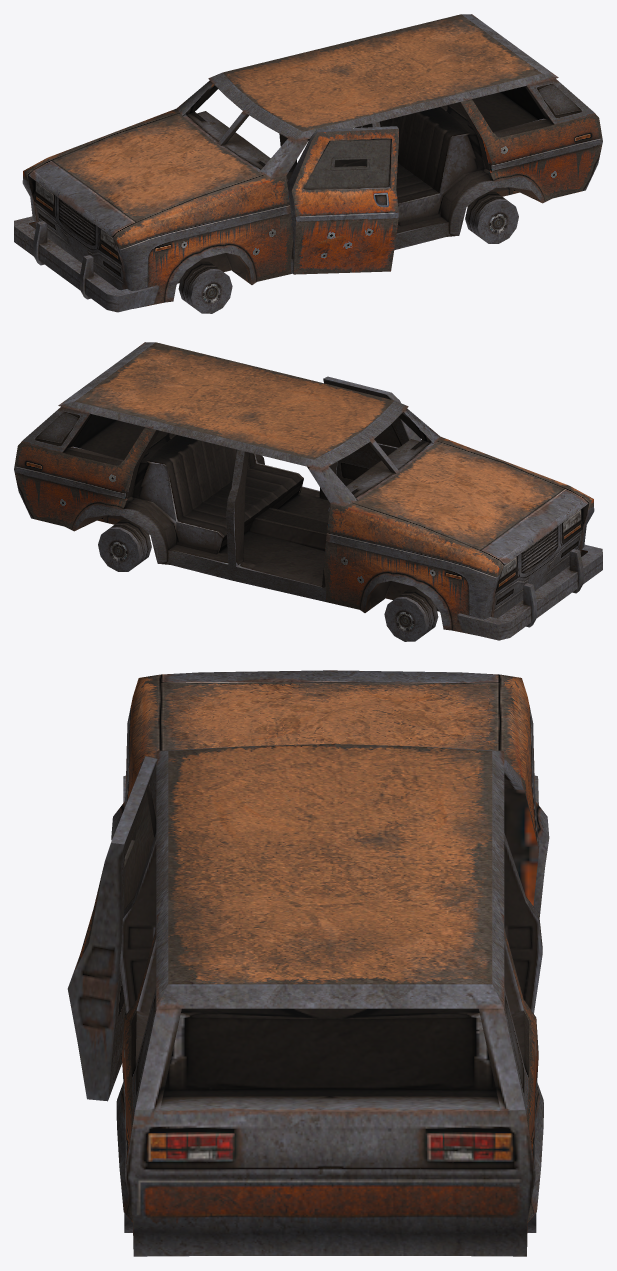
The picture shows the model from 3 angles, top to bottom: view 1: azimuth 30°, elevation 25°; view 2: azimuth 150°, elevation 25°; view 3: azimuth 270°, elevation 25°; orthographic projection. The views are drawn at different scales.
Visible parts, largest first — view 1: wagona001; view 2: wagona001; view 3: wagona001.
Part boxes in pixels (<box>): wagona001: <box>14,14,602,313</box>; wagona001: <box>14,342,602,641</box>; wagona001: <box>67,670,549,1256</box>.
Size of the model in its own units: 251 by 73.2 by 106.
Materials: 1 (1 with a texture image).
